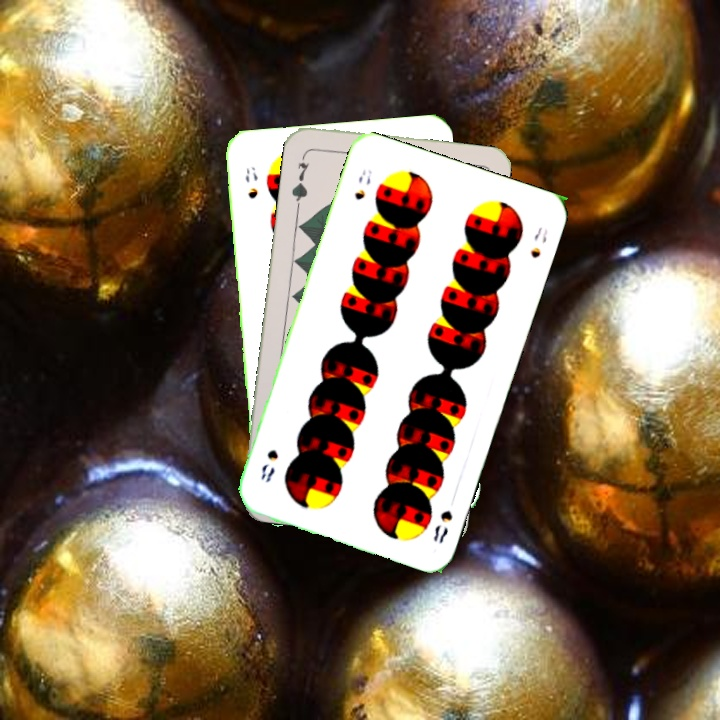G7: (287, 149, 312, 208)
S8: (429, 506, 456, 546), (350, 165, 375, 203), (241, 162, 260, 202)
